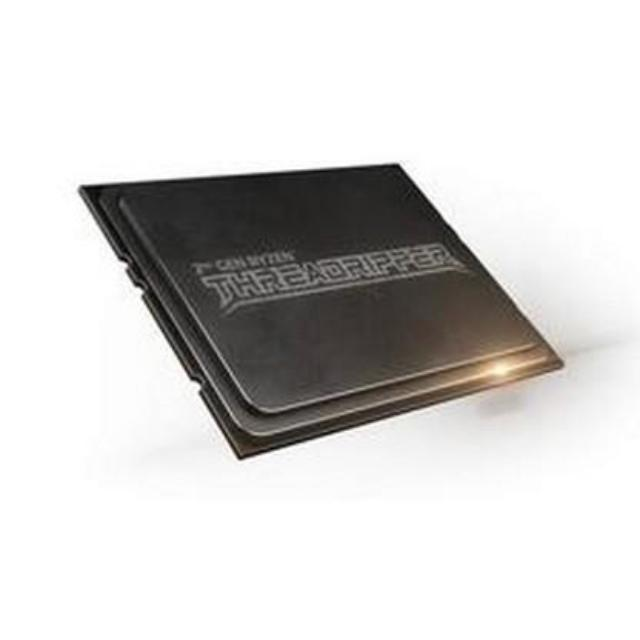CPU: (81, 136, 579, 462)
